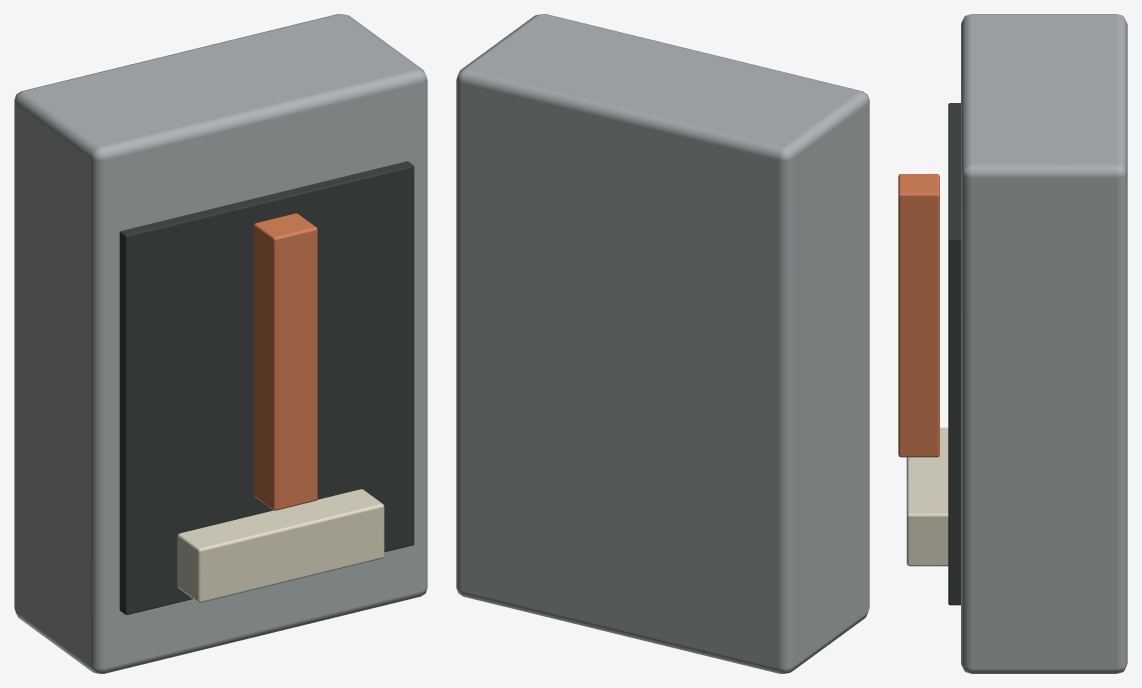
Rendered from off-grid-power-and-controls-fuse-disconnect-3287c61d__2991.glb.
3 renders of one model, left to right at view 1: azimuth 30°, elevation 25°; view 2: azimuth 150°, elevation 25°; view 3: azimuth 270°, elevation 25°, orthographic. The views are drawn at different scales.
Visible parts, largest first — view 1: fuse-disconnect, handle/signal; view 2: fuse-disconnect; view 3: fuse-disconnect, handle/signal.
Part boxes in pixels (bbox=[...]): fuse-disconnect: bbox=[14, 14, 427, 673]; handle/signal: bbox=[253, 213, 317, 510]; fuse-disconnect: bbox=[456, 14, 869, 673]; fuse-disconnect: bbox=[906, 14, 1127, 673]; handle/signal: bbox=[898, 174, 939, 457].
Size of the model in its own units: 0.18 by 0.27 by 0.11.
